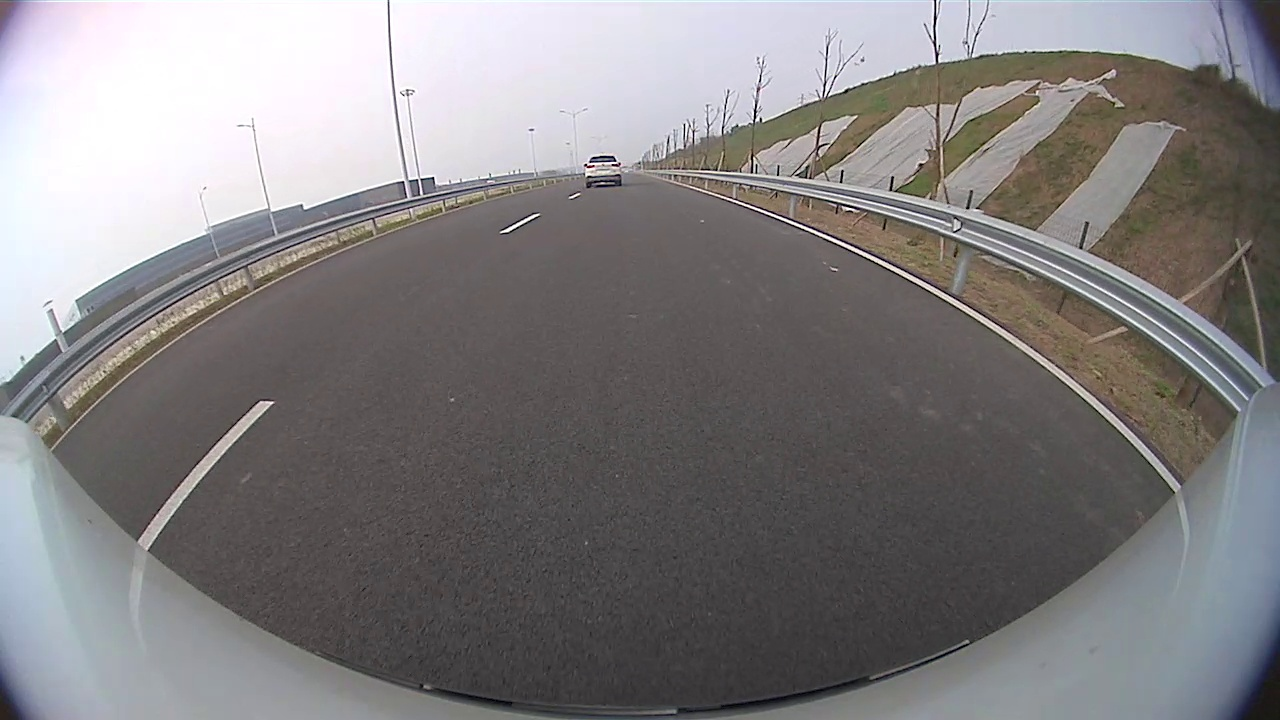car: (584, 154, 622, 188)
